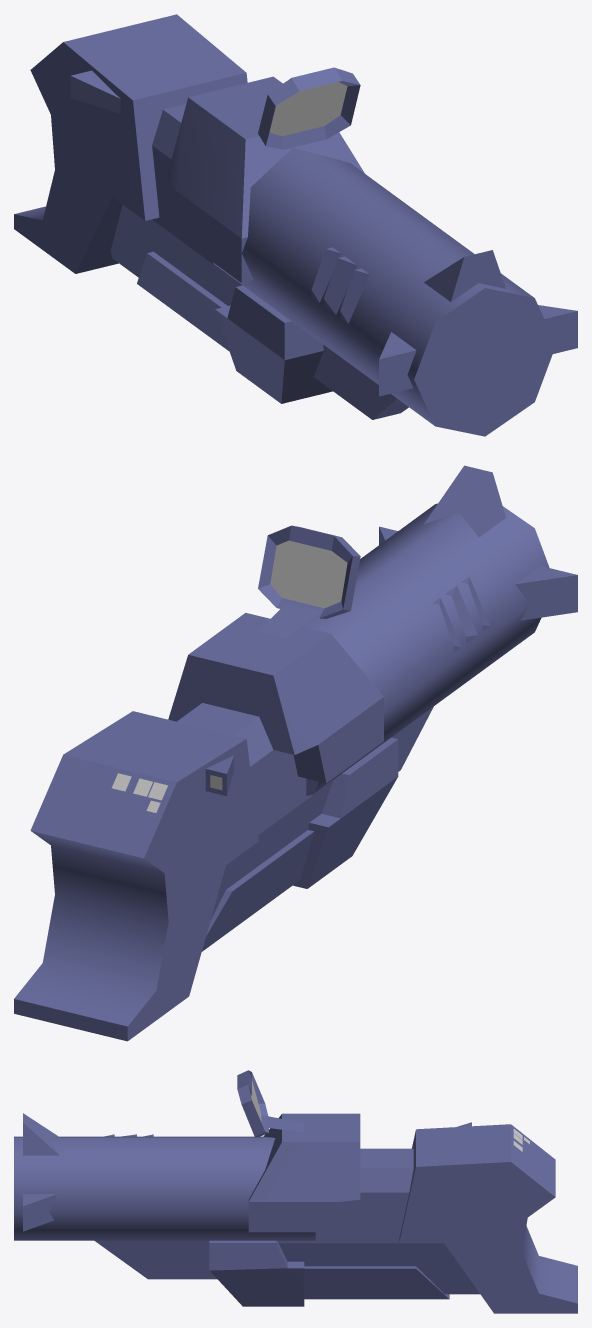
File: Rocketlauncher.obj
The picture shows the model from 3 angles, top to bottom: view 1: azimuth 30°, elevation 25°; view 2: azimuth 150°, elevation 25°; view 3: azimuth 270°, elevation 25°; orthographic projection. The views are drawn at different scales.
Parts seen in each view (by area): view 1: RocketLauncher_Mesh_0120.001; view 2: RocketLauncher_Mesh_0120.001; view 3: RocketLauncher_Mesh_0120.001.
Part boxes in pixels (<box>): RocketLauncher_Mesh_0120.001: <box>14,14,577,436</box>; RocketLauncher_Mesh_0120.001: <box>14,465,577,1041</box>; RocketLauncher_Mesh_0120.001: <box>14,1070,577,1313</box>.
Size of the model in its own units: 0.9441 by 1.45 by 3.41.
